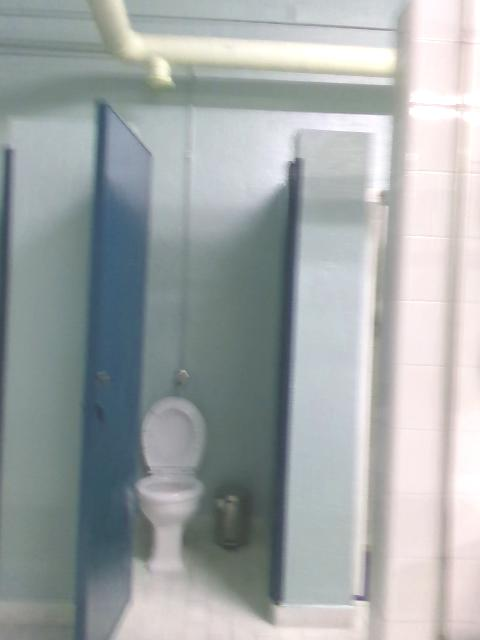open_door: (116, 122, 299, 633)
